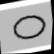no answer: (9, 11, 49, 43)
